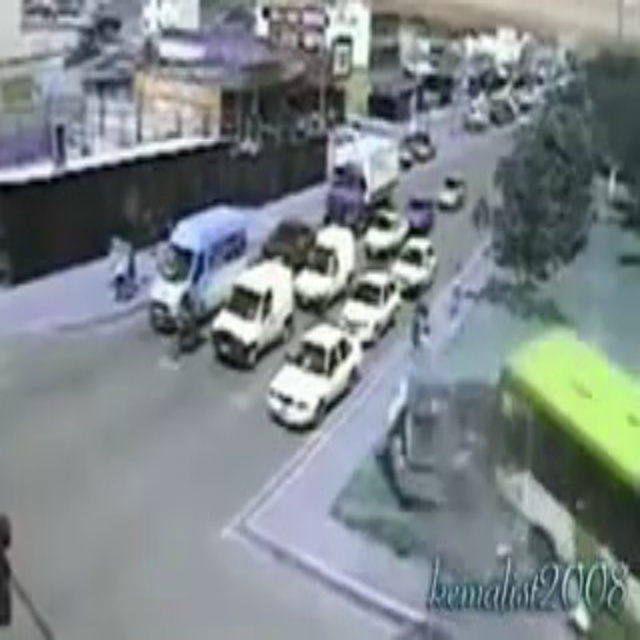acc: (393, 332, 585, 521)
